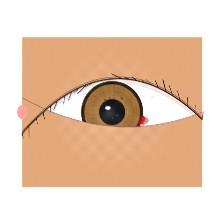hemorrhage_spot: (78, 88, 156, 150)
